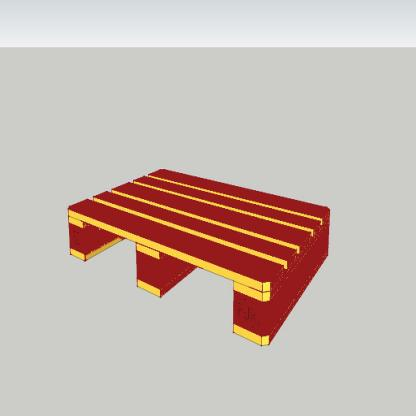BoxFace: (65, 161, 333, 353)
